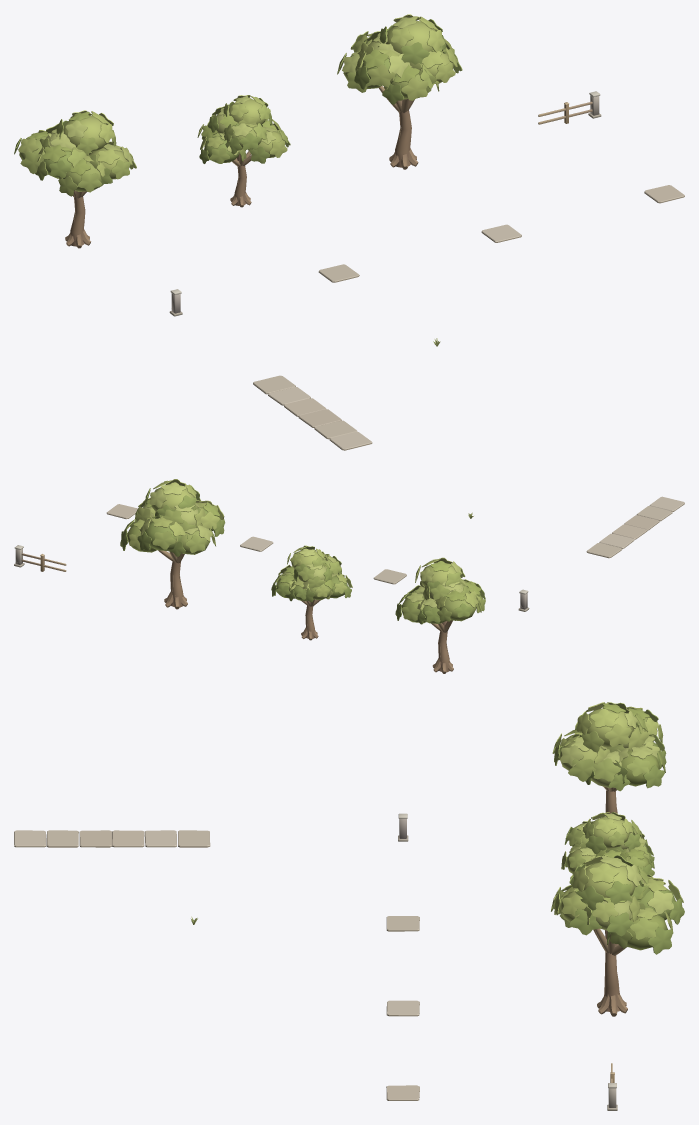
File: GrowAZombie_GardenReplacement.glb
The picture shows the model from 3 angles, top to bottom: view 1: azimuth 30°, elevation 25°; view 2: azimuth 150°, elevation 25°; view 3: azimuth 270°, elevation 25°; orthographic projection. The views are drawn at different scales.
Parts seen in each view (by area): view 1: ENV_TreeC__Canopy, ENV_TreeA__Canopy, ENV_TreeB__Canopy, ENV_Path__Main, ENV_TreeC__Trunk, ENV_TreeA__Trunk, ENV_Fence__Main, ENV_TreeB__Trunk; view 2: ENV_TreeC__Canopy, ENV_TreeA__Canopy, ENV_TreeB__Canopy, ENV_Path__Main, ENV_TreeC__Trunk, ENV_TreeA__Trunk, ENV_Fence__Main, ENV_TreeB__Trunk, ENV_Tile1__Main, ENV_Tile2__Main, ENV_Tile3__Main; view 3: ENV_TreeC__Canopy, ENV_TreeA__Canopy, ENV_TreeB__Canopy, ENV_Path__Main, ENV_TreeC__Trunk.
Boxes of the visible parts, x1,y1,x2,y2 form: ENV_TreeC__Canopy: (337, 14, 462, 104); ENV_TreeA__Canopy: (14, 110, 136, 196); ENV_TreeB__Canopy: (197, 95, 290, 163); ENV_Path__Main: (253, 375, 372, 450); ENV_TreeC__Trunk: (378, 86, 418, 169); ENV_TreeA__Trunk: (59, 178, 90, 248); ENV_Fence__Main: (538, 91, 601, 124); ENV_TreeB__Trunk: (230, 150, 251, 207); ENV_TreeC__Canopy: (120, 479, 225, 556); ENV_TreeA__Canopy: (395, 557, 485, 624); ENV_TreeB__Canopy: (271, 545, 352, 602); ENV_Path__Main: (586, 496, 684, 558); ENV_TreeC__Trunk: (158, 550, 187, 609); ENV_TreeA__Trunk: (431, 620, 453, 673); ENV_Fence__Main: (14, 545, 66, 571); ENV_TreeB__Trunk: (301, 599, 320, 640); ENV_Tile1__Main: (373, 569, 406, 584); ENV_Tile2__Main: (240, 536, 273, 551); ENV_Tile3__Main: (106, 504, 137, 519); ENV_TreeC__Canopy: (551, 855, 684, 954); ENV_TreeA__Canopy: (552, 702, 666, 791); ENV_TreeB__Canopy: (561, 812, 654, 875); ENV_Path__Main: (14, 830, 210, 847); ENV_TreeC__Trunk: (593, 928, 627, 1016).
Bounding box in the file's own units: 81.01 × 19.49 × 76.91.
